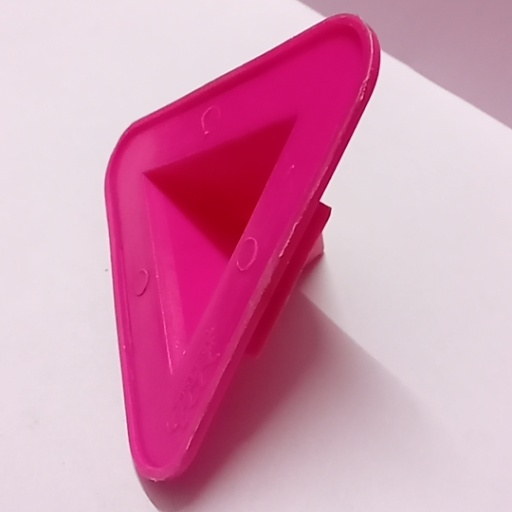pink_cone: (50, 0, 389, 504)
